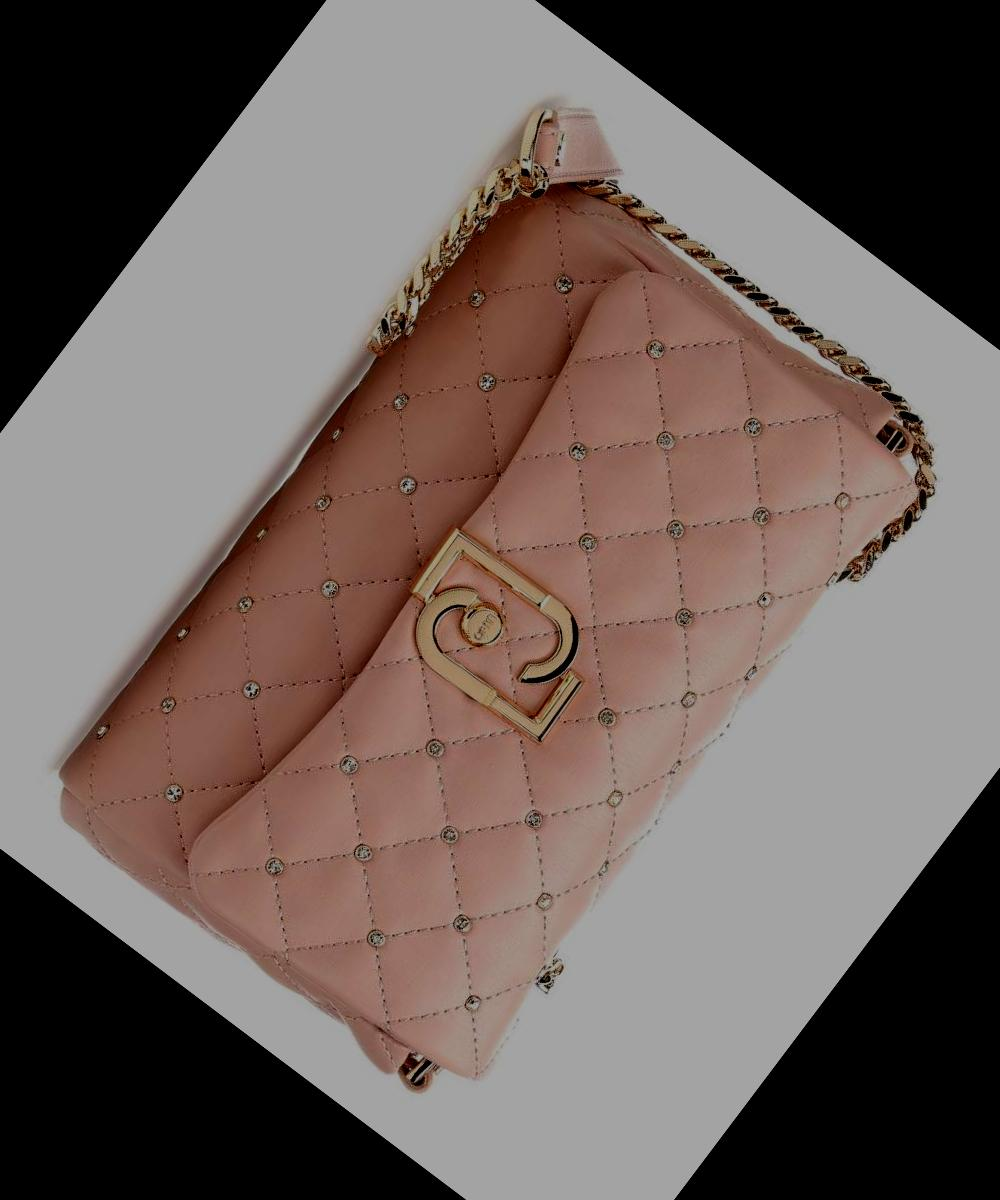LIU-JO: (376, 522, 616, 750)
